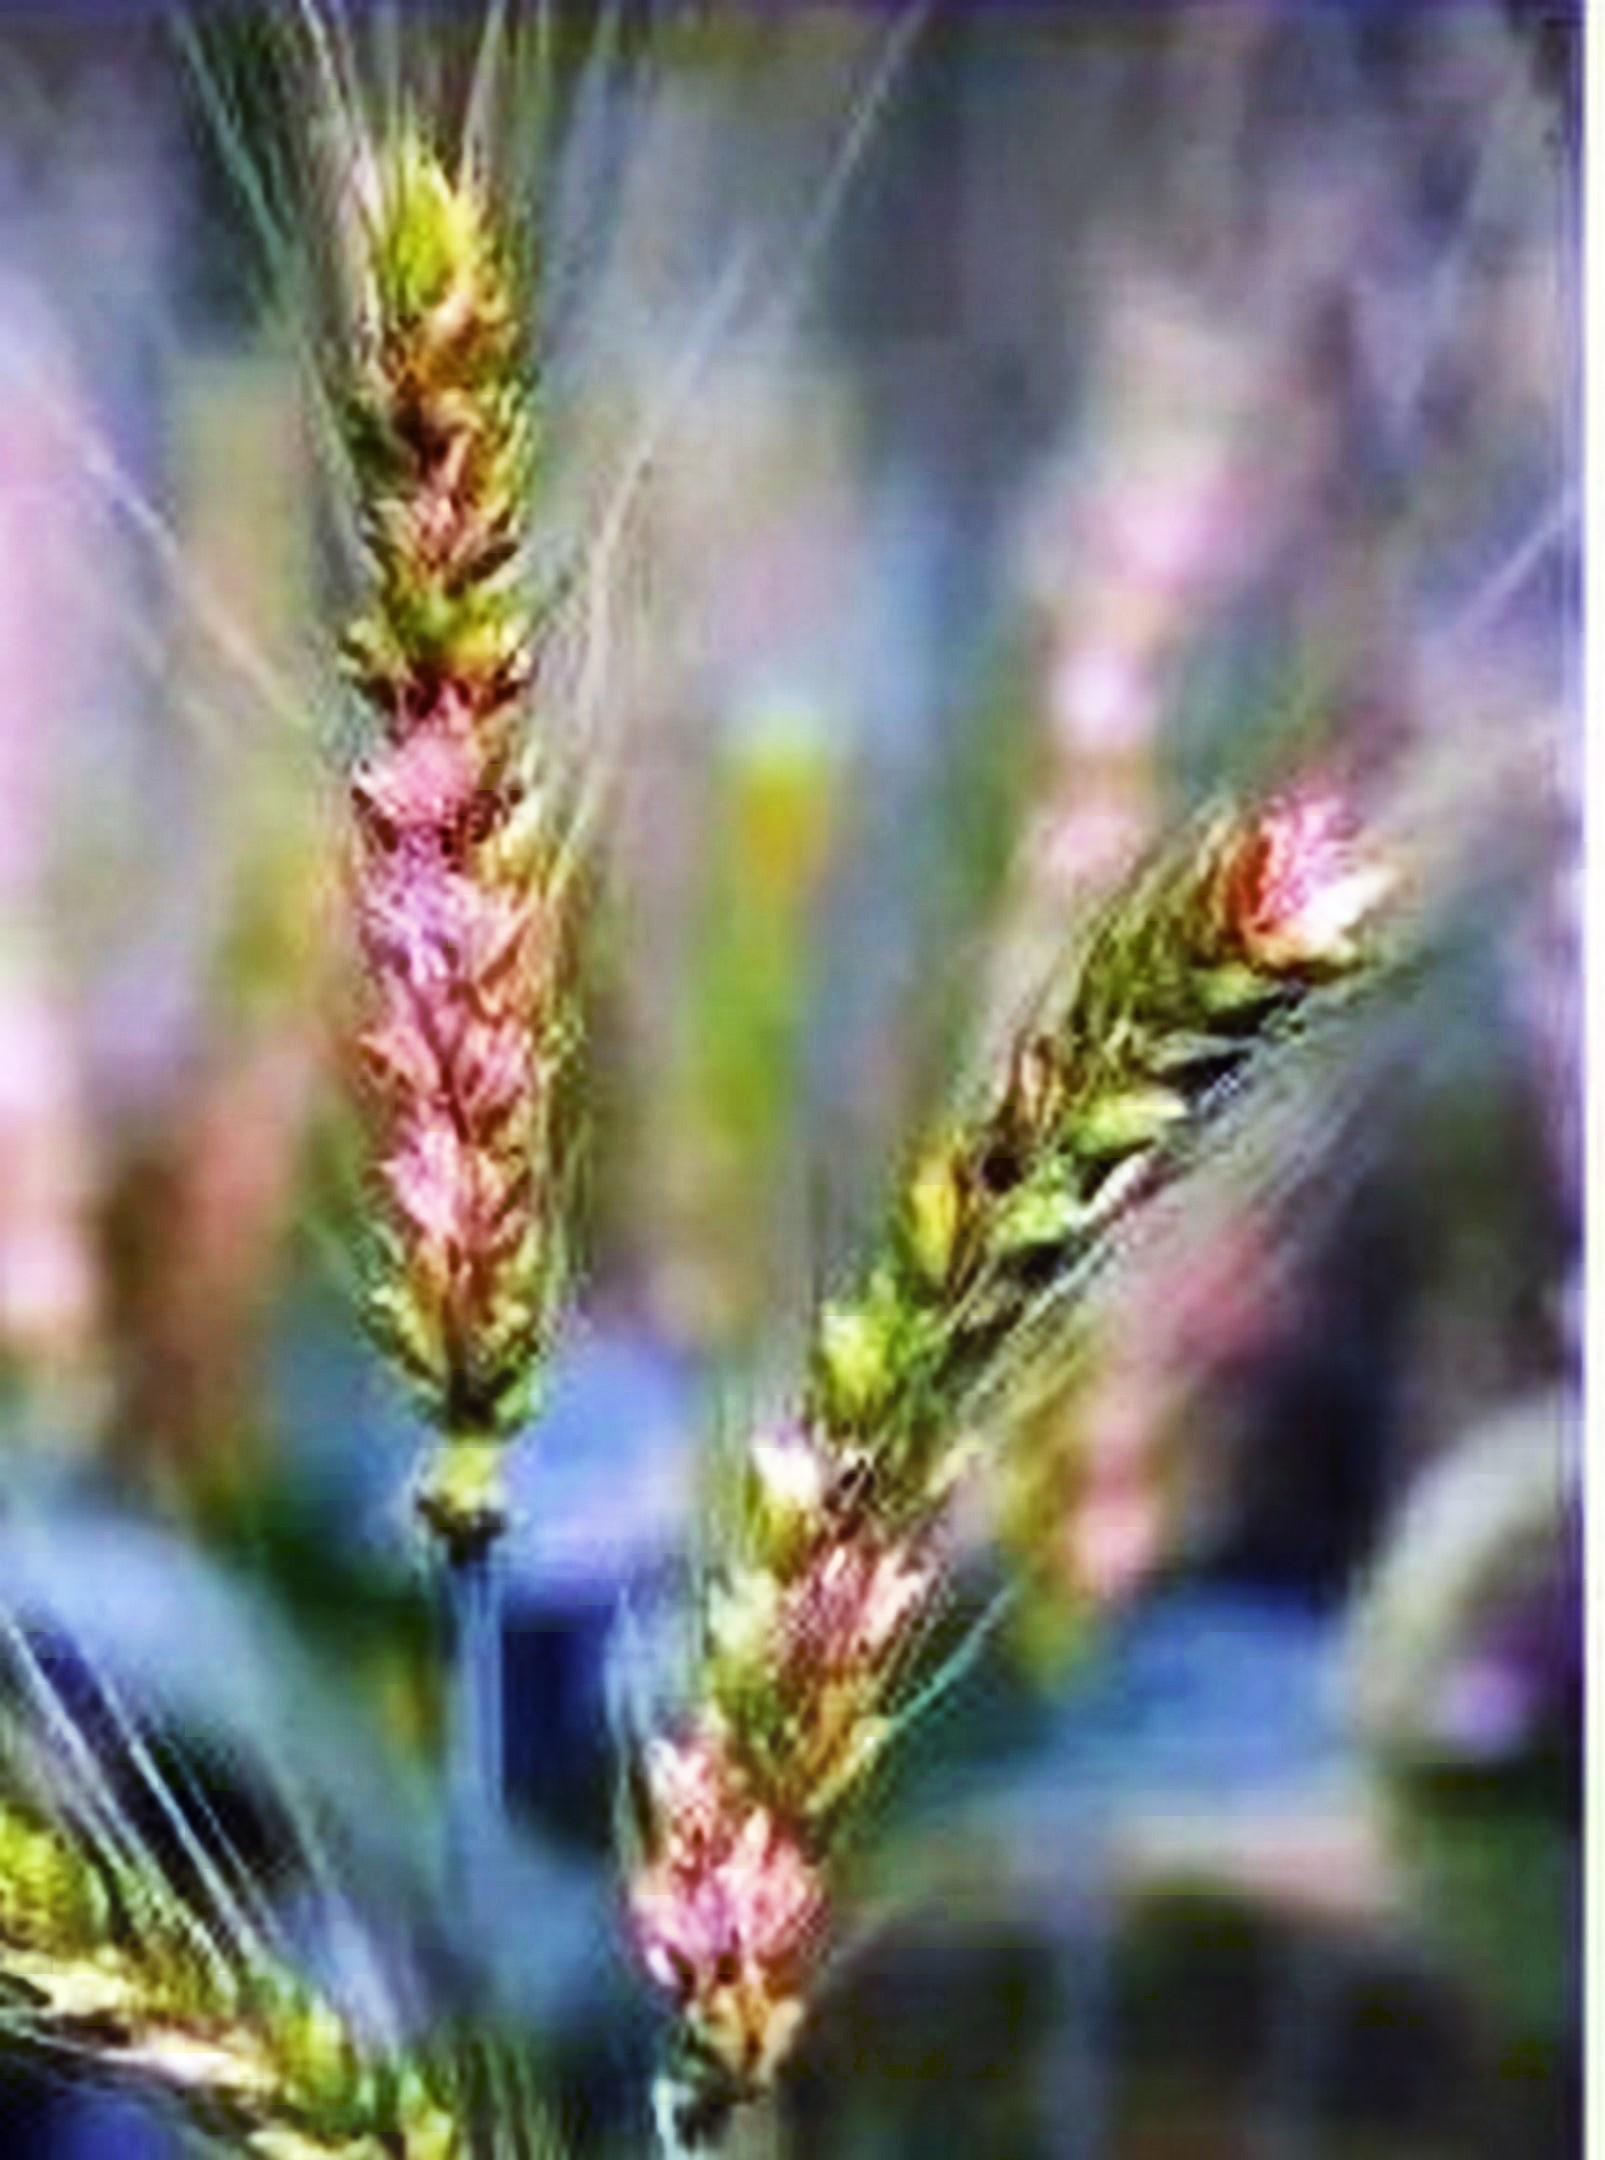Wheat scab: (278, 137, 671, 1474)
